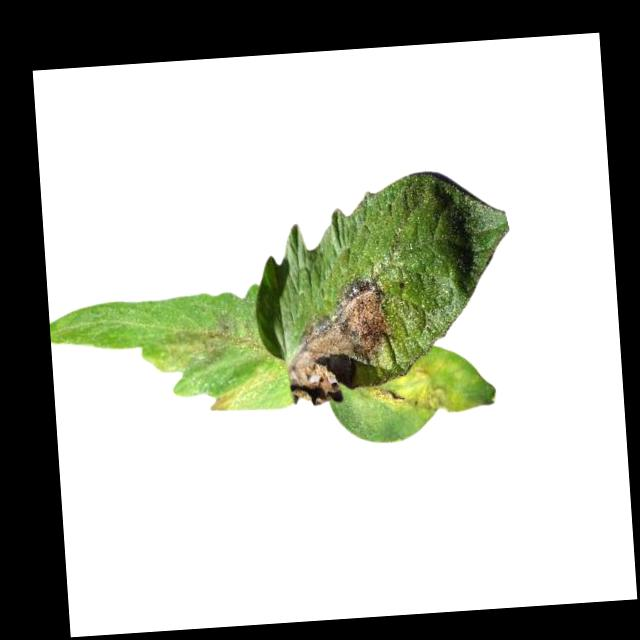Late_blight: (283, 272, 400, 406), (161, 307, 264, 372), (366, 363, 453, 417), (206, 365, 283, 411)
